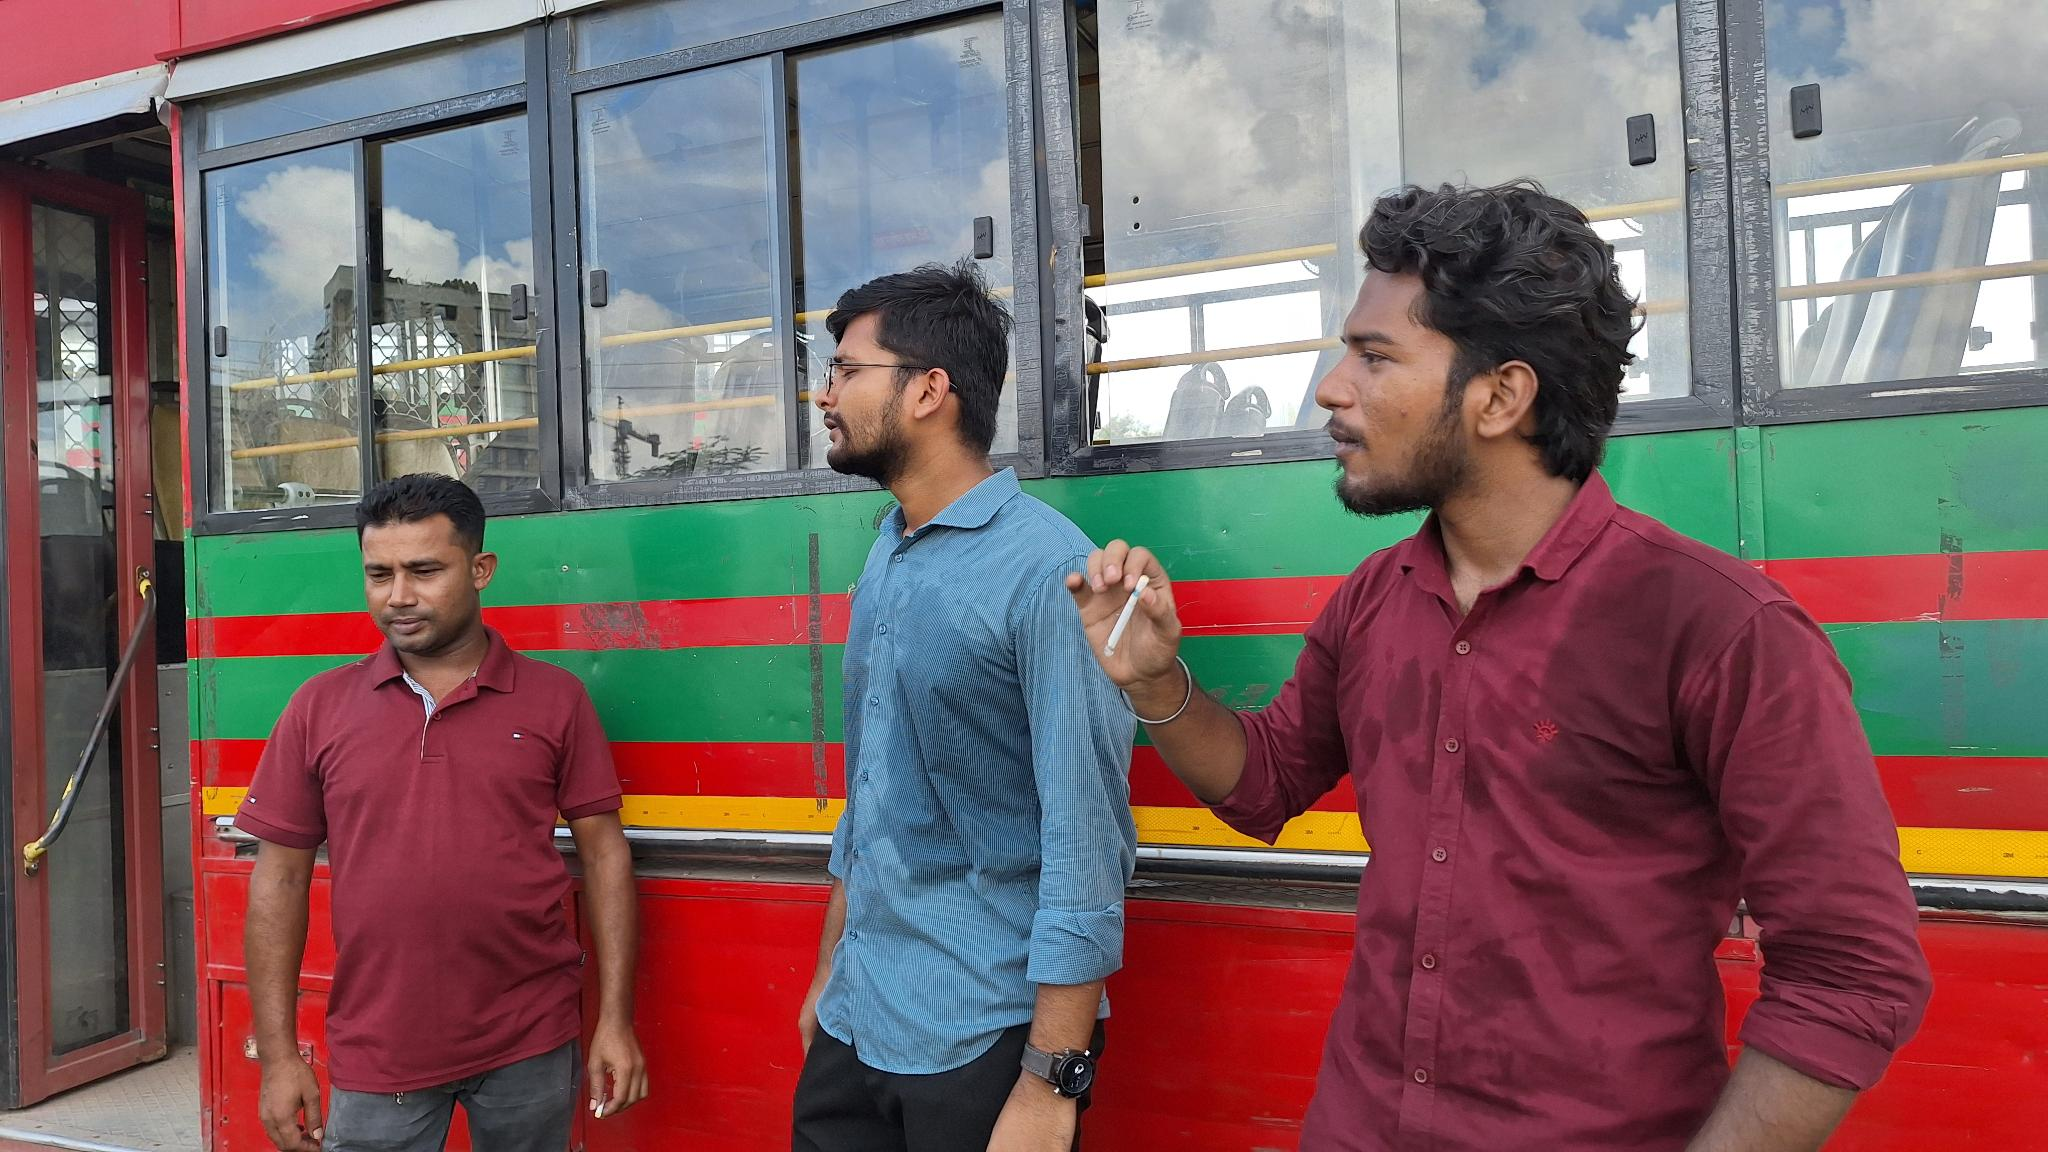cigarette: (1100, 570, 1152, 660), (592, 1089, 610, 1121)
nonSmoker: (793, 264, 1138, 1152)
smoker: (1065, 191, 1928, 1152), (232, 473, 650, 1152)
